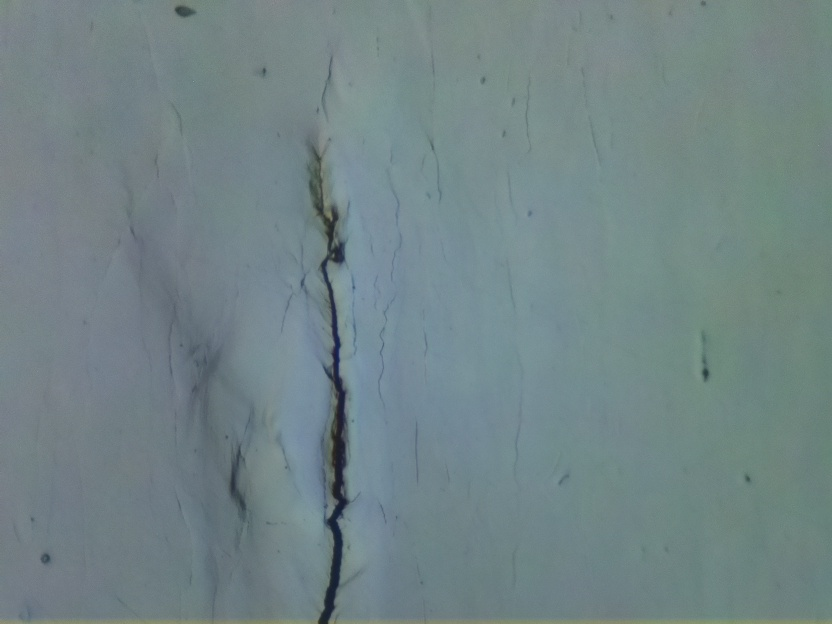crack: (301, 144, 360, 624)
